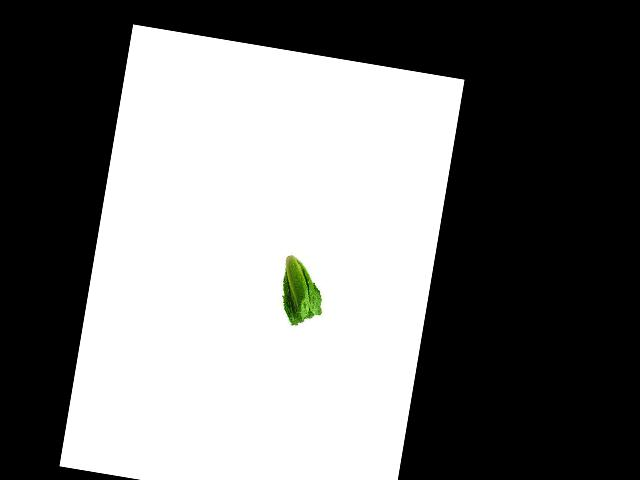lettuce: (274, 248, 331, 330)
